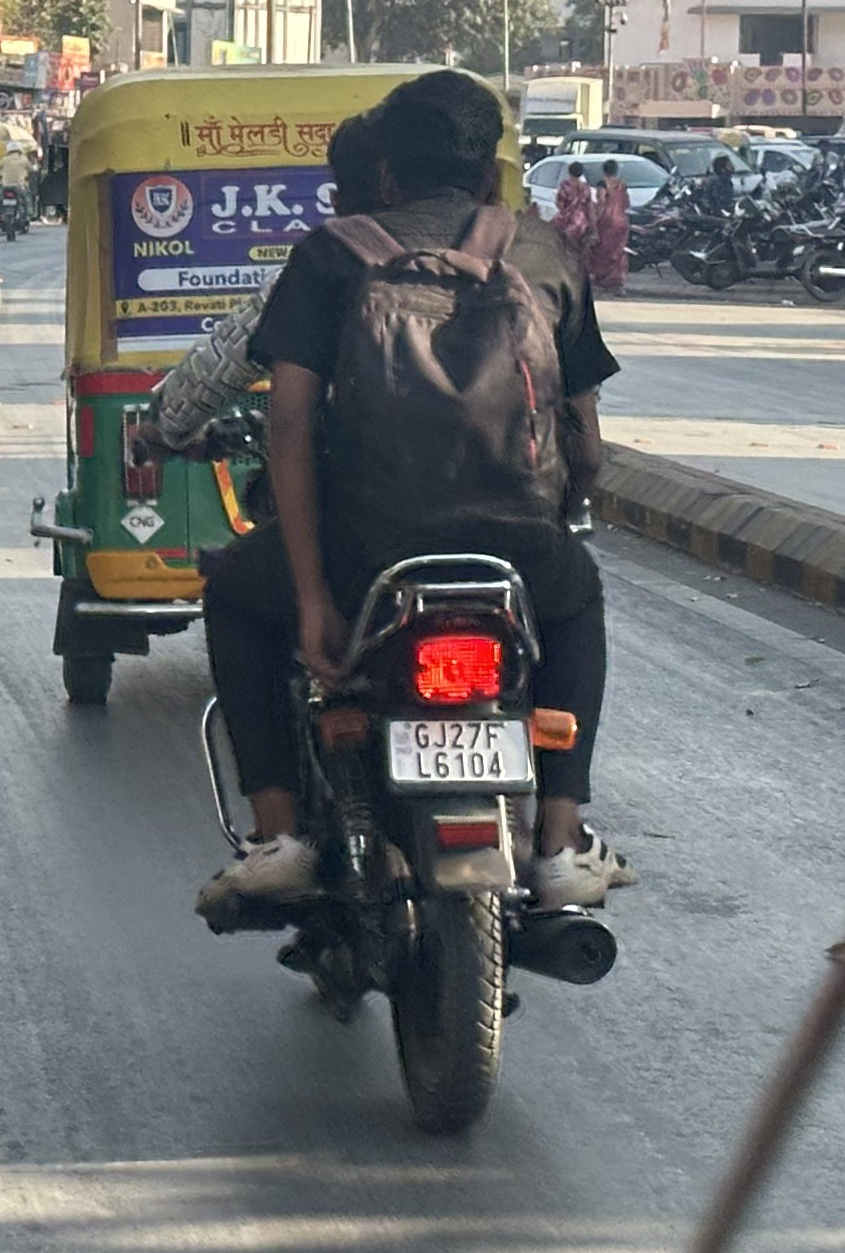BikeWithRider: (124, 56, 653, 1151)
NoHelmet: (364, 60, 518, 221), (311, 93, 434, 225)
